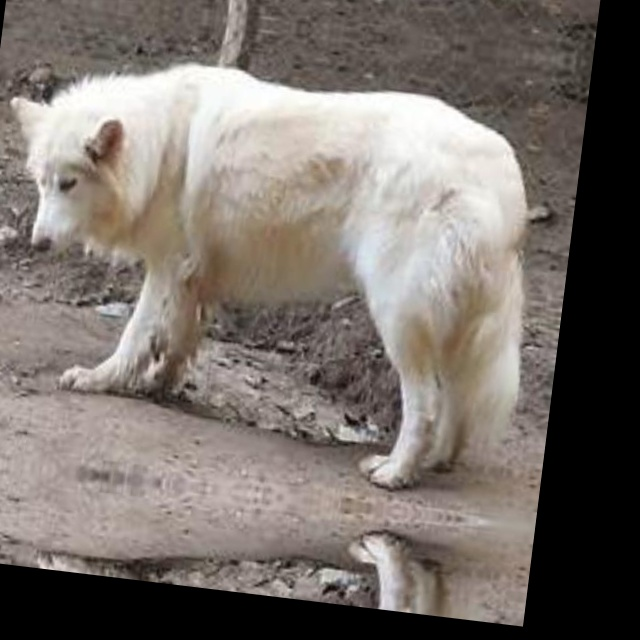dog: (0, 40, 557, 499), (0, 483, 503, 623)
